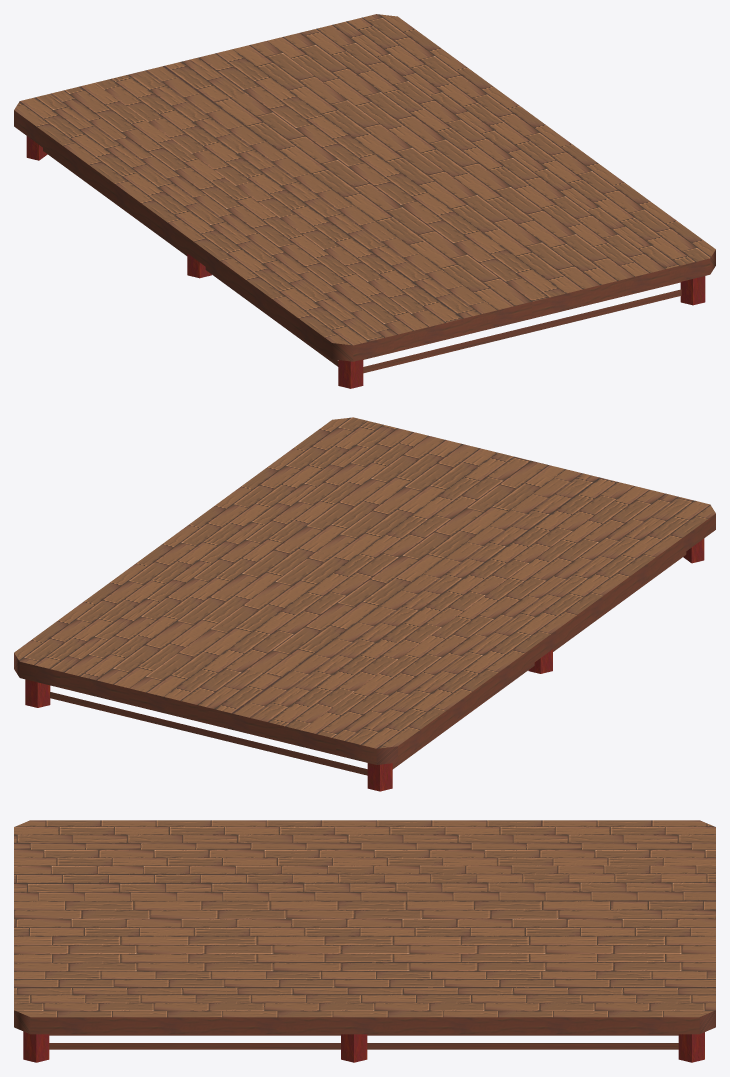
Rendered from polygonalmind-lunar-year-005.glb.
The picture shows the model from 3 angles, top to bottom: view 1: azimuth 30°, elevation 25°; view 2: azimuth 150°, elevation 25°; view 3: azimuth 270°, elevation 25°; orthographic projection. The views are drawn at different scales.
Visible parts, largest first — view 1: BuildingBase; view 2: BuildingBase; view 3: BuildingBase.
Boxes of the visible parts, <box> form: BuildingBase: <box>14,14,715,388</box>; BuildingBase: <box>14,417,715,791</box>; BuildingBase: <box>14,820,715,1062</box>.
Size of the model in its own units: 15.55 by 1.82 by 23.42.
2 materials, 2 textured.
